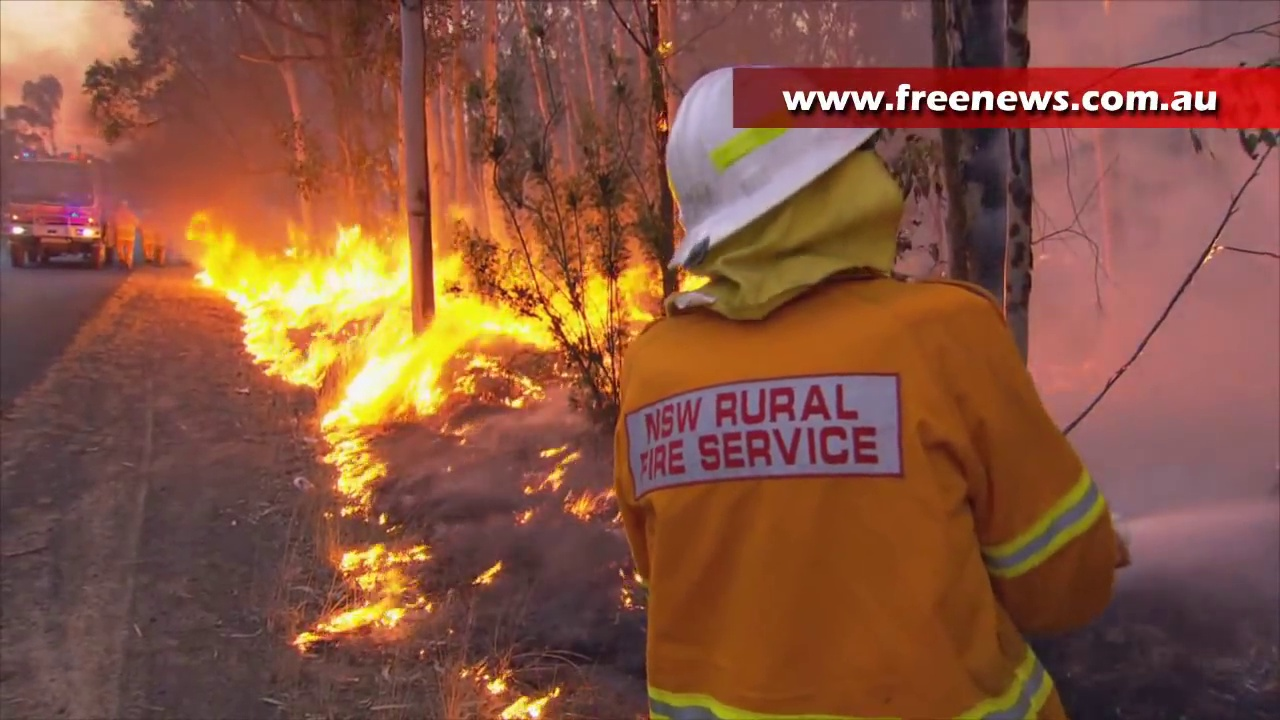fire: (197, 225, 611, 425), (320, 539, 430, 631), (535, 446, 602, 517), (322, 437, 385, 508), (615, 261, 656, 326), (488, 674, 544, 718)
